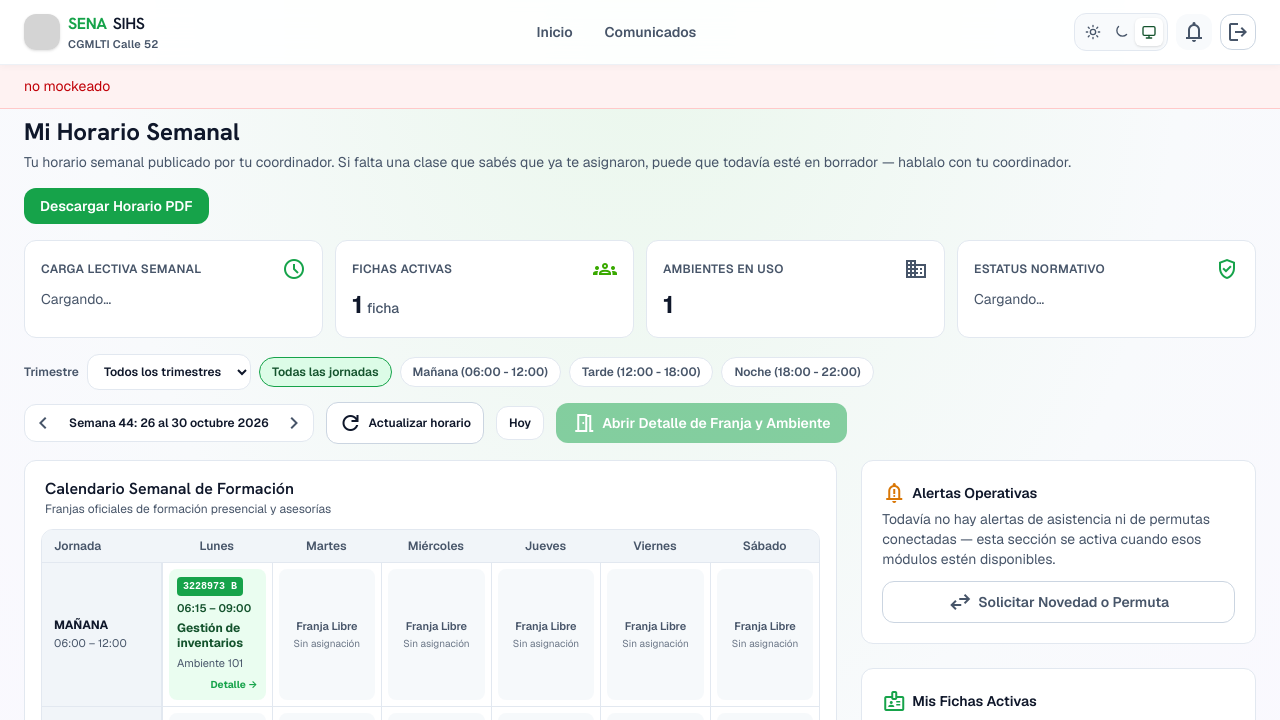
Test case: MiHorario › Actualiza el horario de la semana actual sin recargar la página
Check: the text "Gestión de inventarios" is shown, box [177,620,243,650]
Click the button "Actualizar horario".
click(405, 423)  # box [326,402,484,444]
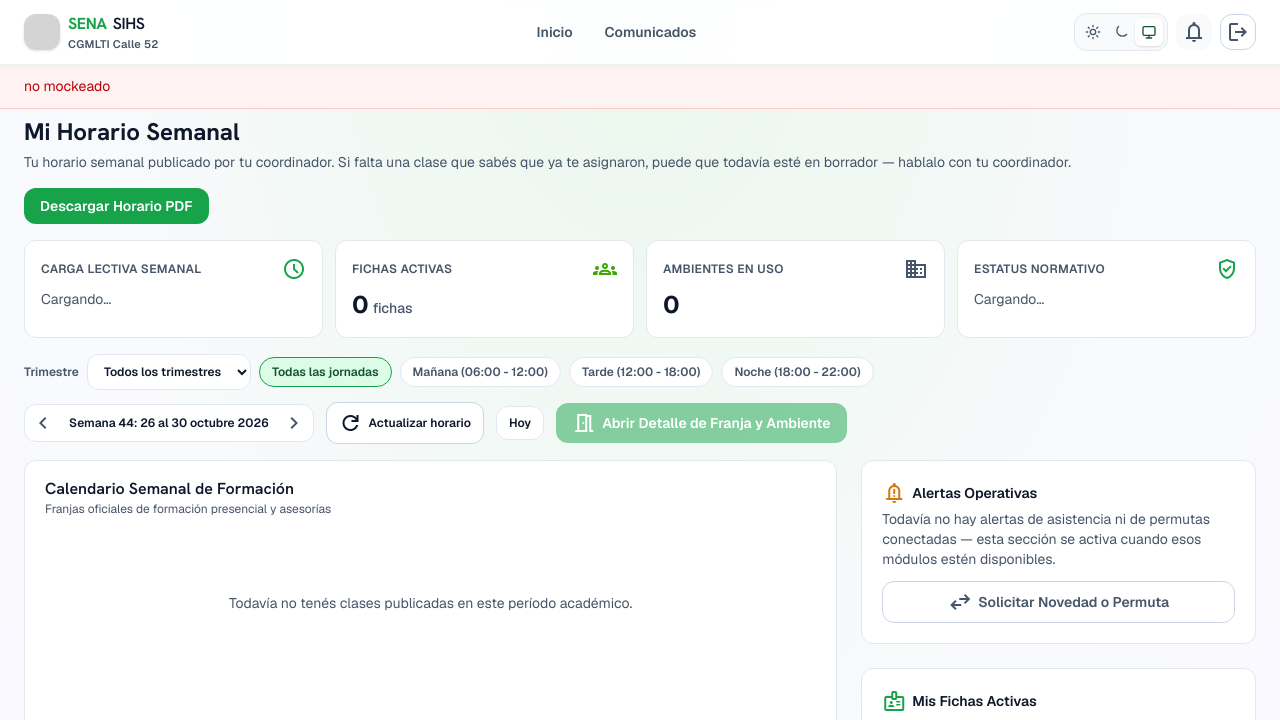
Check: the text "Todavía no tenés clases publicadas en este período académico." is shown, box [229,594,632,612]
